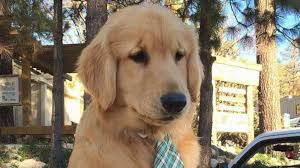Golden Retriever: (51, 2, 225, 168)
